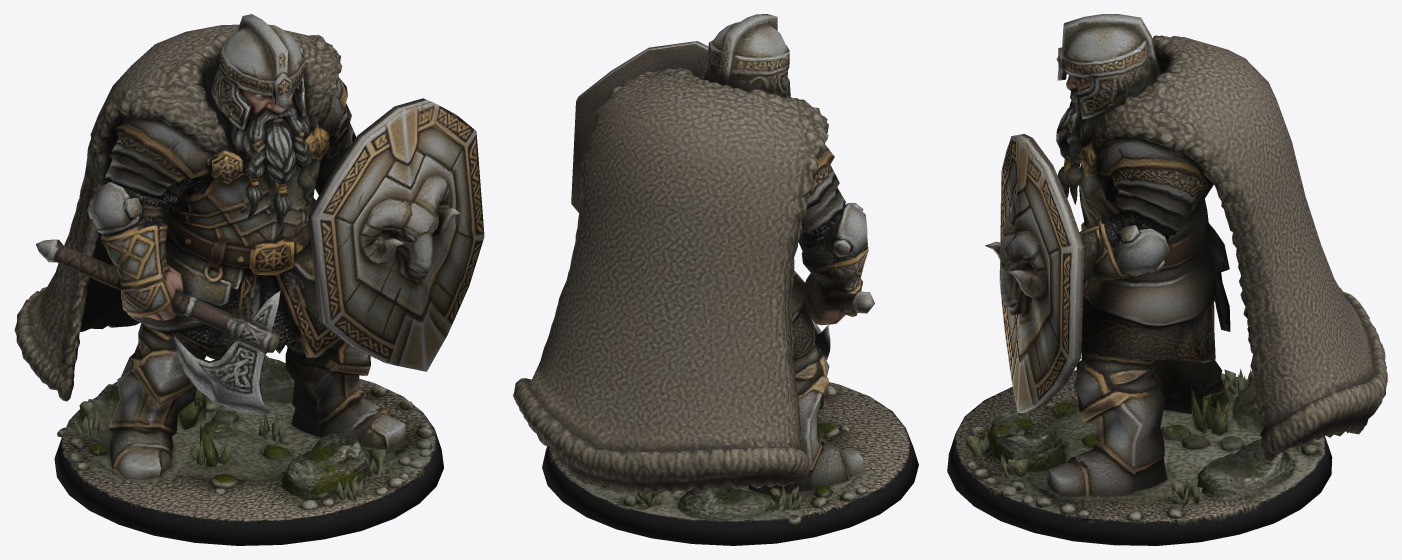
The model's file is vaultguard_def_male.glb.
3 views of the same model, side by side, from view 1: azimuth 30°, elevation 25°; view 2: azimuth 150°, elevation 25°; view 3: azimuth 270°, elevation 25° (orthographic). The views are drawn at different scales.
Visible parts, largest first — view 1: tripo_node_d931a4e0-35b6-425a-9ce4-f8709570356c; view 2: tripo_node_d931a4e0-35b6-425a-9ce4-f8709570356c; view 3: tripo_node_d931a4e0-35b6-425a-9ce4-f8709570356c.
Part boxes in pixels (x1=…): tripo_node_d931a4e0-35b6-425a-9ce4-f8709570356c: x1=14, y1=14, x2=484, y2=545; tripo_node_d931a4e0-35b6-425a-9ce4-f8709570356c: x1=513, y1=14, x2=918, y2=545; tripo_node_d931a4e0-35b6-425a-9ce4-f8709570356c: x1=947, y1=14, x2=1387, y2=545.
Size of the model in its own units: 0.8764 by 0.998 by 0.8922.
Materials: 1 (1 with a texture image).
